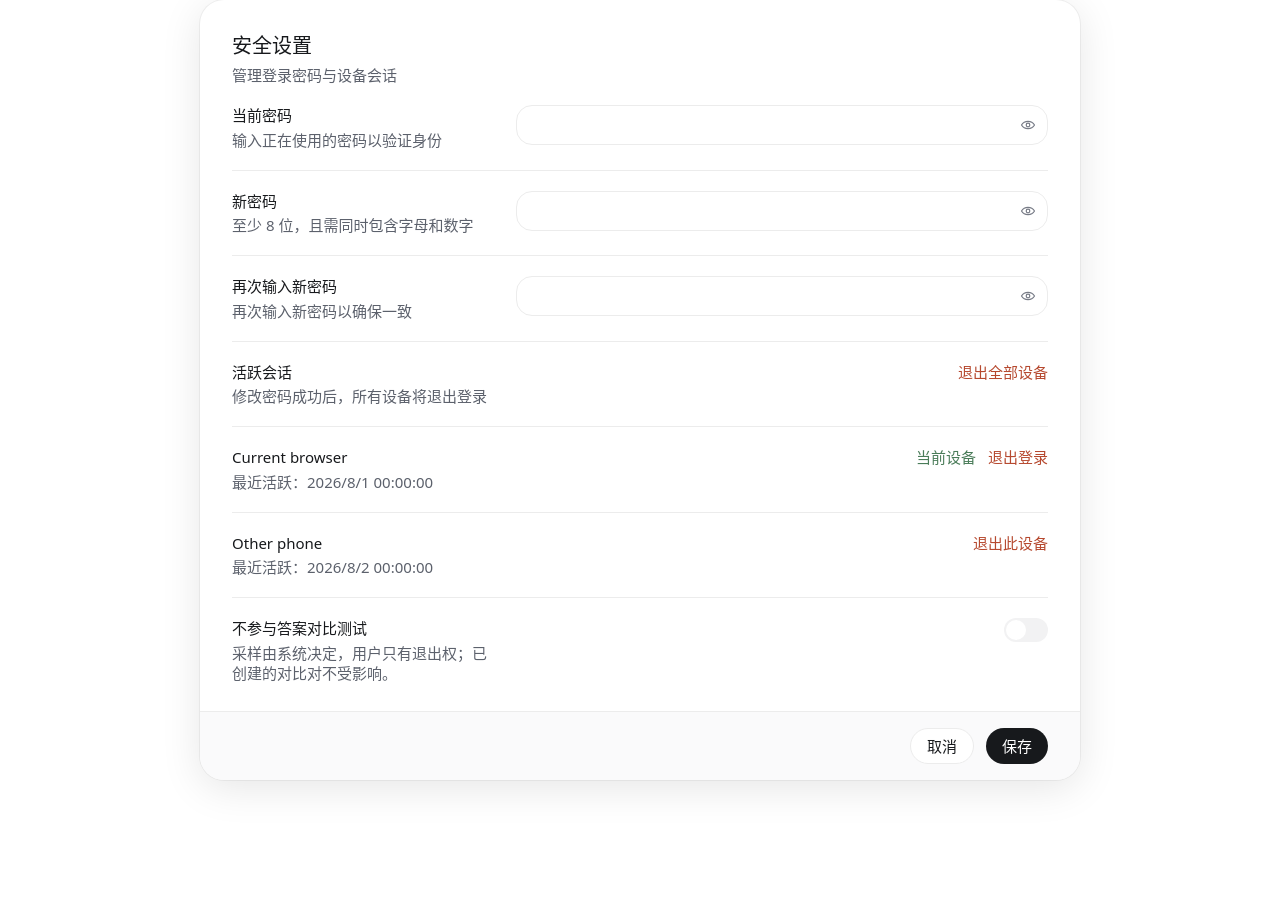
Scenario: SecurityModule › shows an accessible error and does not forge logout when revoke-all fails
Check: the text "Current browser" is shown, box [232,447,347,467]
Check: the text "Other phone" is shown, box [232,533,322,553]
Click the button "退出全部设备": (1003, 372) [958,362,1048,382]
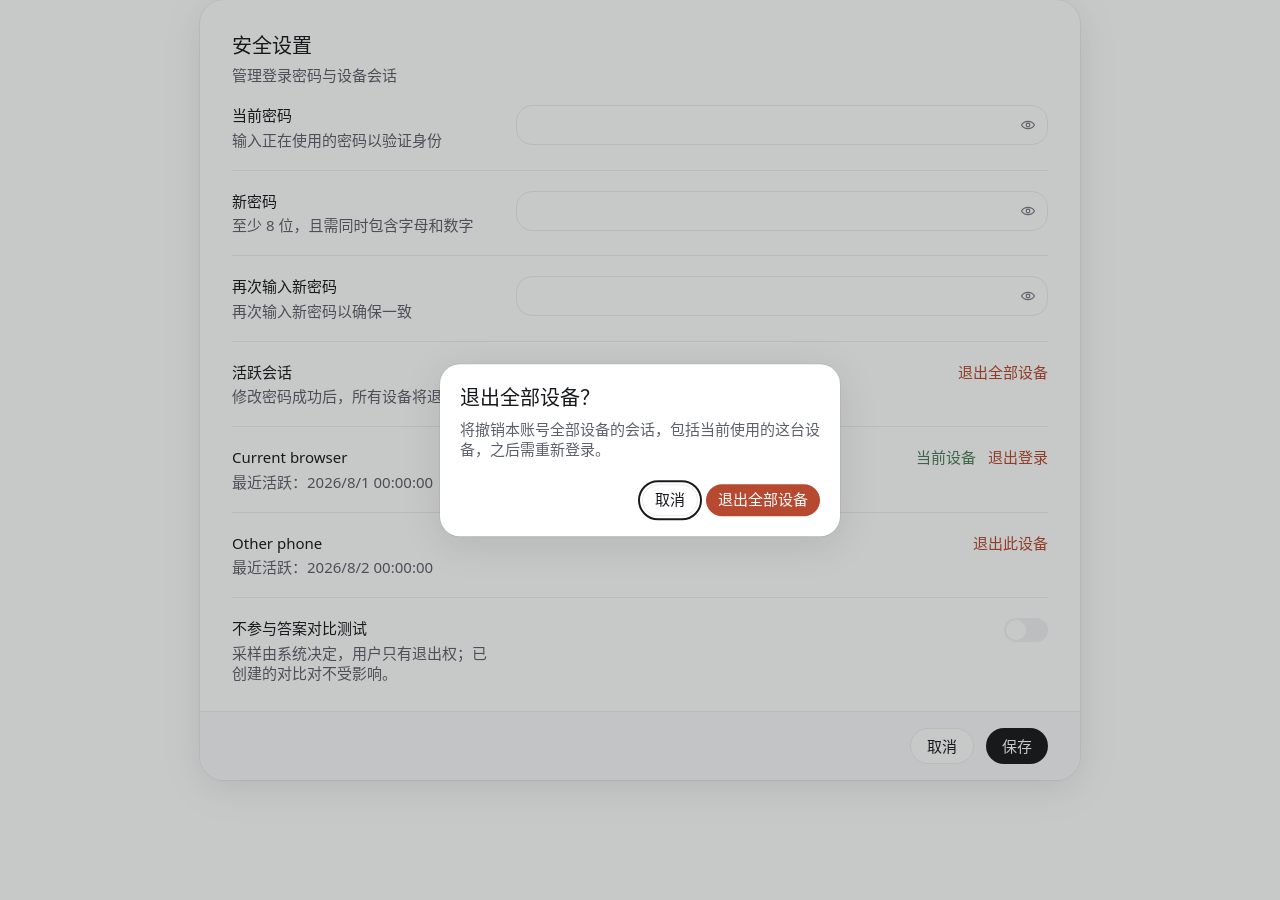
Click the button "退出全部设备": (763, 500) [706,484,820,516]
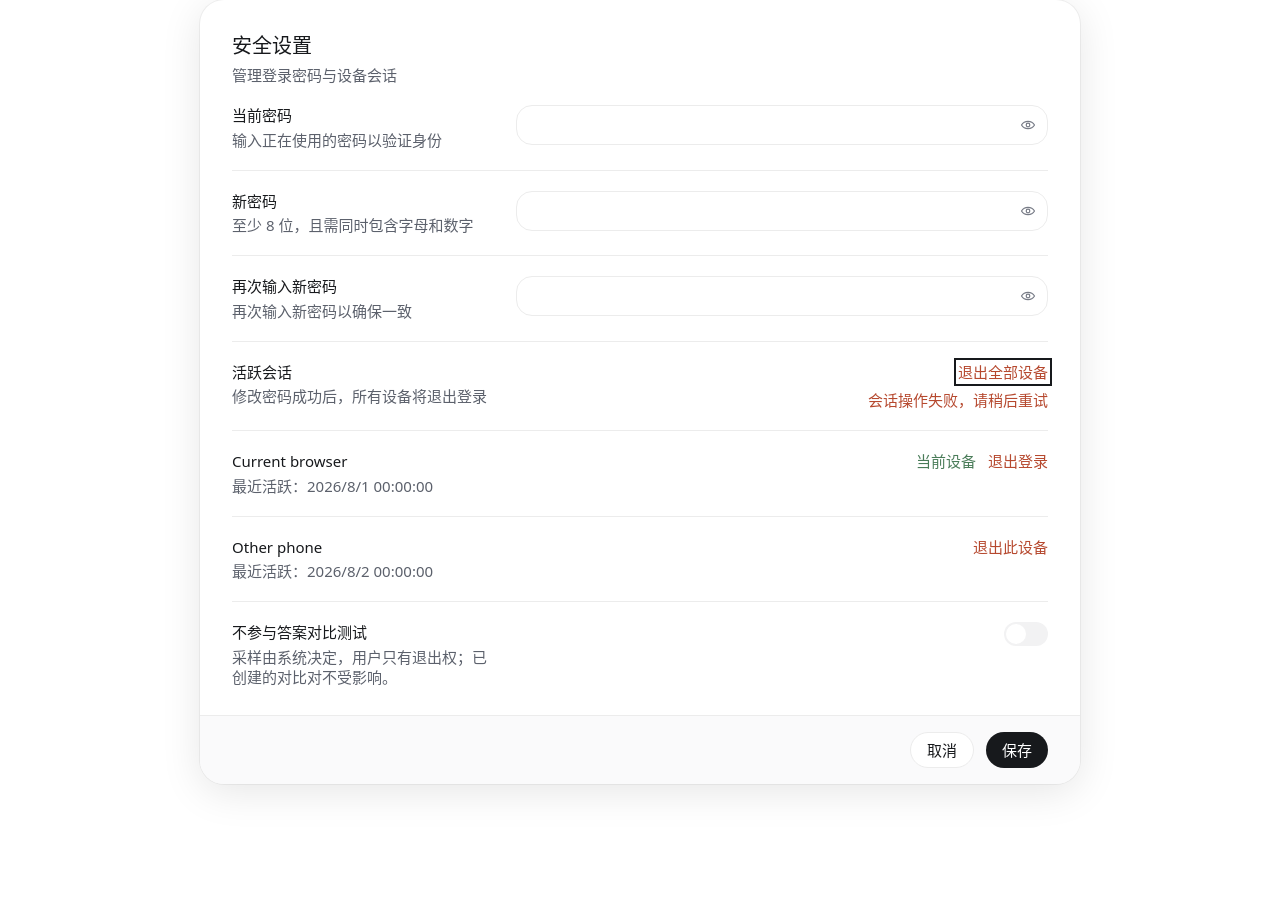
Check: the text "Current browser" is shown, box [232,451,347,471]
Check: the message reads "会话操作失败，请稍后重试", box [868,390,1048,410]
Check: the dialog is gone
